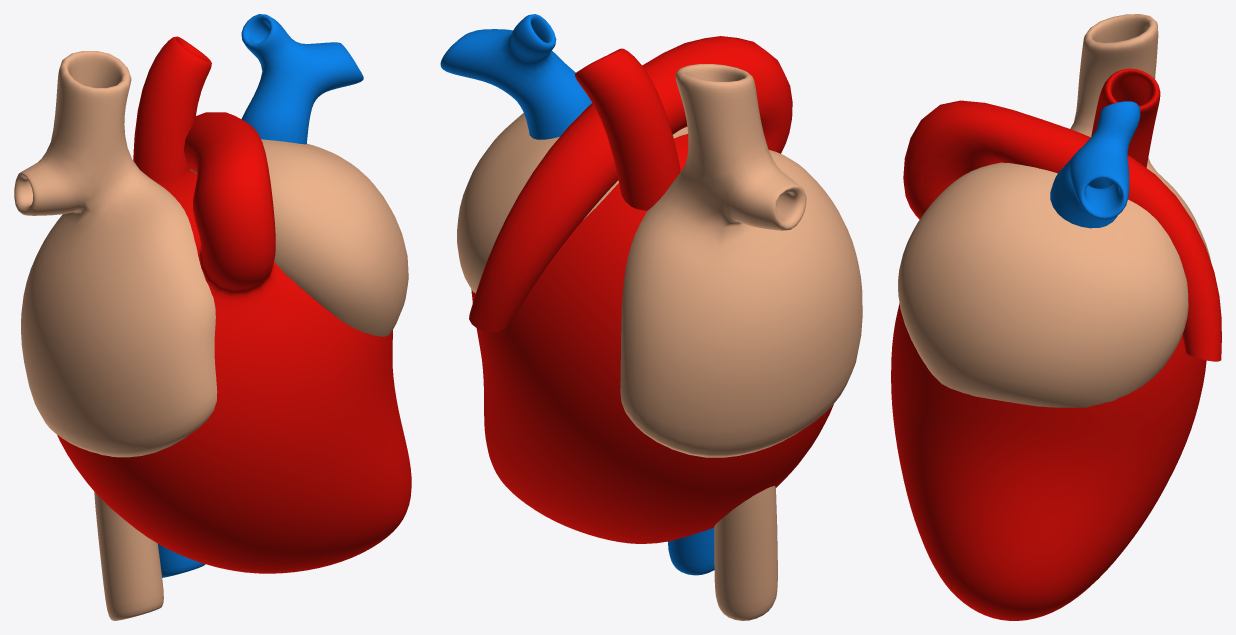
File: Heart .glb
The picture shows the model from 3 angles, left to right: view 1: azimuth 30°, elevation 25°; view 2: azimuth 150°, elevation 25°; view 3: azimuth 270°, elevation 25°; orthographic projection. The views are drawn at different scales.
Visible parts, largest first — view 1: Cube.003, Cube.005, Cube.004, Cube.008, Cube.006, Cube.007, Cube.009; view 2: Cube.003, Cube.005, Cube.008, Cube.006, Cube.004, Cube.007, Cube.009; view 3: Cube.003, Cube.004, Cube.008, Cube.005, Cube.006.
Part boxes in pixels (box(x1,y1,x2,y2)): Cube.003: box(57, 112, 411, 573); Cube.005: box(14, 51, 217, 457); Cube.004: box(189, 139, 408, 336); Cube.008: box(241, 14, 363, 144); Cube.006: box(133, 36, 211, 183); Cube.007: box(94, 492, 163, 620); Cube.009: box(158, 544, 205, 577); Cube.003: box(469, 36, 833, 543); Cube.005: box(620, 64, 862, 457); Cube.008: box(440, 14, 592, 139); Cube.006: box(575, 48, 680, 210); Cube.004: box(457, 113, 687, 293); Cube.007: box(714, 486, 777, 620); Cube.009: box(668, 528, 714, 575); Cube.003: box(891, 100, 1221, 620); Cube.004: box(898, 162, 1188, 407); Cube.008: box(1050, 101, 1140, 228); Cube.005: box(1070, 14, 1211, 263); Cube.006: box(1091, 68, 1160, 167).
Bounding box in the file's own units: 3.76 × 5.73 × 3.14.
